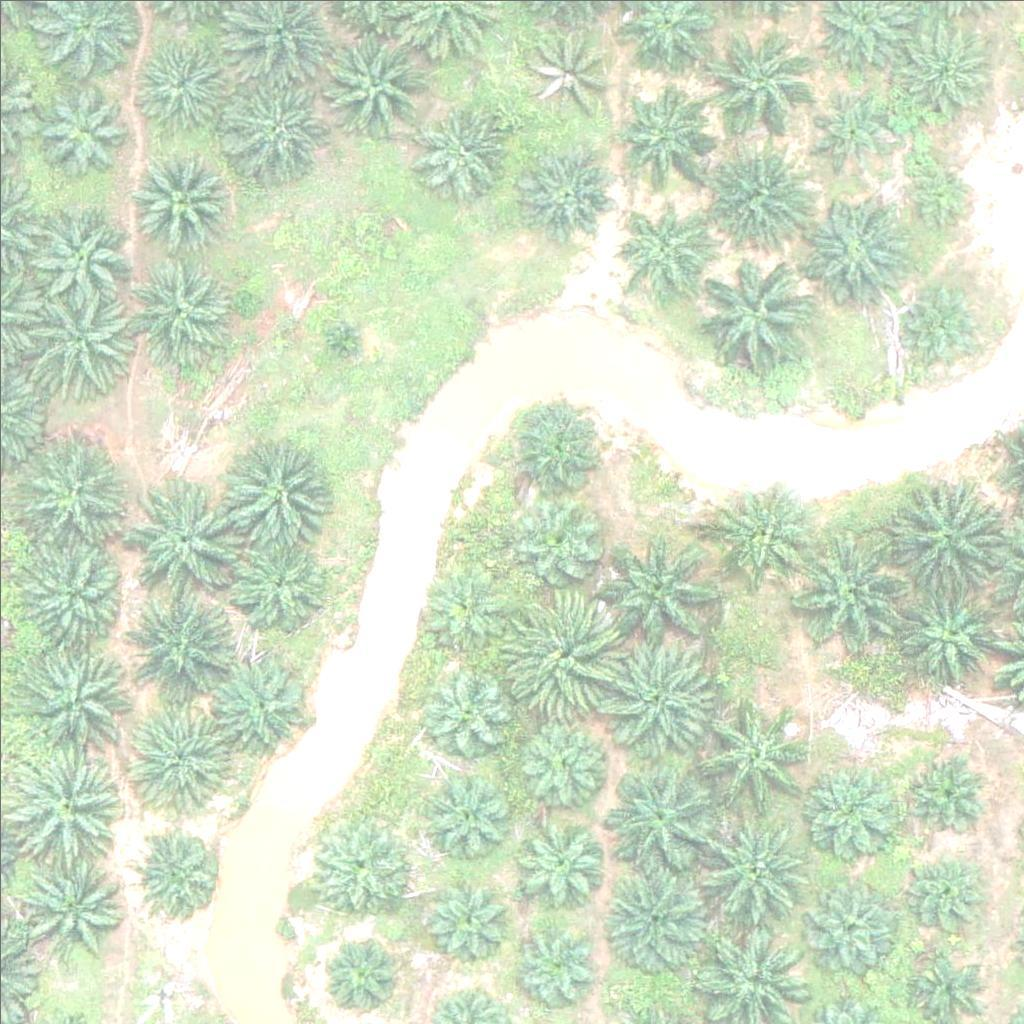Kelapa_Sawit: (11, 541, 124, 655), (894, 478, 1007, 592), (20, 636, 133, 750), (122, 700, 235, 814), (605, 863, 718, 977), (223, 430, 336, 543), (697, 261, 810, 374), (803, 188, 916, 301), (506, 600, 619, 713), (601, 766, 714, 879), (699, 29, 811, 143), (124, 592, 236, 706), (595, 638, 707, 752), (20, 439, 132, 552), (20, 291, 132, 404), (132, 482, 244, 595), (318, 28, 430, 141), (606, 537, 718, 650), (708, 133, 820, 246), (795, 537, 907, 650), (10, 860, 122, 973), (6, 746, 118, 859), (694, 700, 806, 813), (694, 809, 806, 922), (31, 75, 131, 176), (30, 205, 130, 306), (229, 532, 329, 633), (414, 99, 514, 200), (618, 79, 718, 180), (310, 820, 410, 921), (418, 759, 518, 860), (801, 866, 901, 967), (900, 585, 1000, 686), (210, 652, 310, 753), (129, 255, 229, 355), (128, 146, 228, 246), (128, 30, 228, 130), (226, 70, 326, 170), (508, 398, 608, 498), (517, 145, 617, 245), (711, 477, 811, 577), (893, 19, 993, 119), (508, 714, 608, 814), (504, 810, 604, 910), (802, 761, 902, 861), (516, 503, 604, 591), (805, 85, 893, 173), (900, 277, 988, 365), (419, 568, 507, 656), (510, 919, 598, 1007), (902, 744, 990, 832), (521, 26, 608, 114), (619, 196, 706, 284), (135, 832, 222, 920), (316, 930, 403, 1018), (422, 660, 509, 748), (427, 881, 514, 969), (905, 854, 992, 942), (901, 159, 976, 234), (321, 317, 371, 368)
